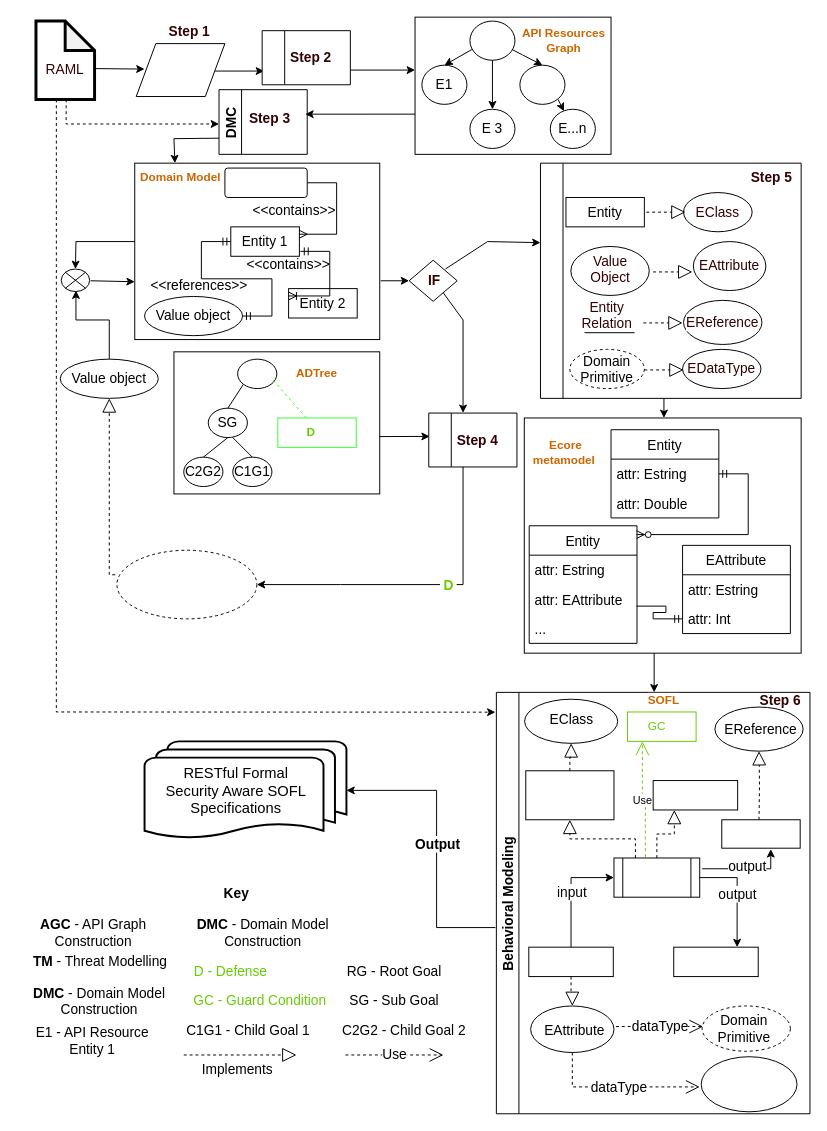
The diagram is 827 pixels wide and 1131 high, and some of its shapes have lost their labels. The box of each missing label's shape, as (x1, y1, x2, y2) in pixels:
AGC: (261, 30, 350, 85)
Aggregate root: (224, 167, 307, 197)
D = Domain primitive as security invariant: (116, 549, 257, 619)
E 2: (519, 64, 565, 104)
MediaType: (673, 946, 758, 977)
MethodType: (652, 780, 738, 810)
Parameter: (528, 946, 613, 977)
Primitive Data Type: (700, 1056, 797, 1112)
RAML Parser: (135, 43, 225, 97)
RelationType: (721, 819, 800, 848)
ResourceType: (525, 770, 614, 820)
RG: (237, 358, 277, 389)
Root: (469, 20, 515, 60)
SOFL Process: (613, 857, 700, 897)
Structural modeling: (539, 162, 801, 398)
TM: (428, 412, 517, 467)
